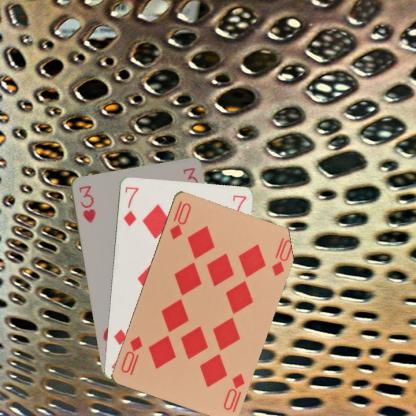10d: (220, 370, 246, 414), (166, 198, 192, 240)
3h: (76, 183, 97, 224)
7d: (121, 184, 139, 228)
